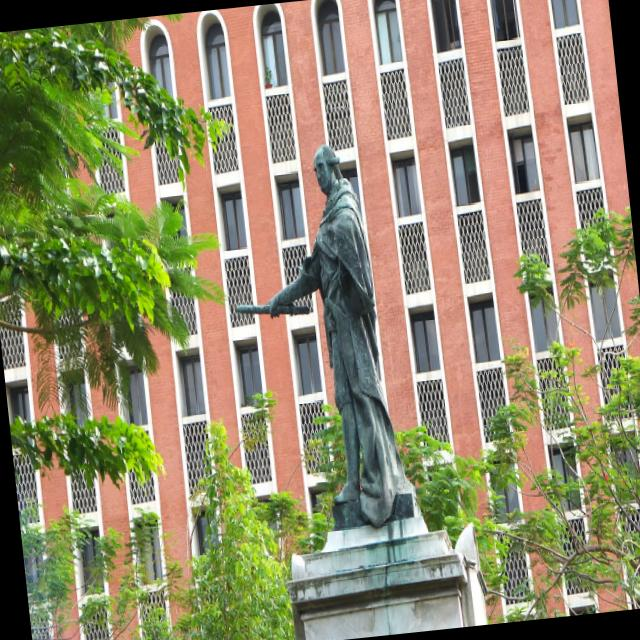King Charles IV Monument: (229, 139, 490, 635)
